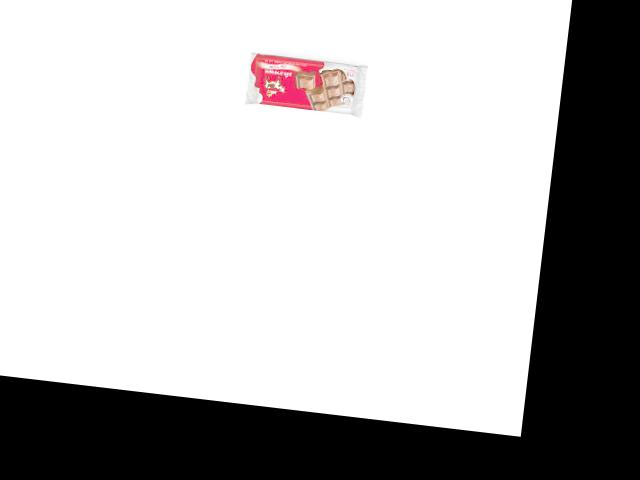chocolate: (243, 51, 371, 118)
